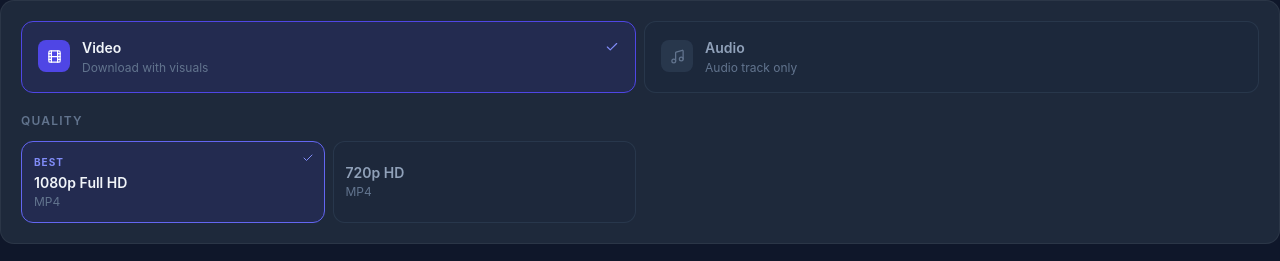
it: FormatSelector — audio format selection › shows an empty state when there are no audio formats
Click the radio button labelled "Audio Audio track only" at (677, 56), box [644,21,1259,93]
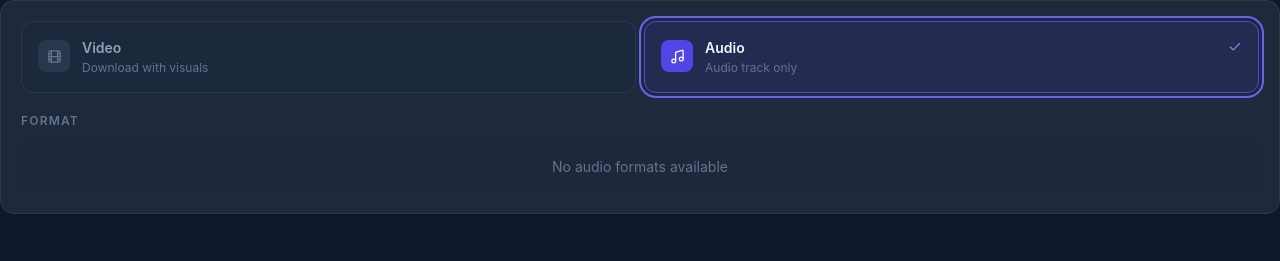
Now the text "No audio formats available" is shown, box [21,141,1259,193]
